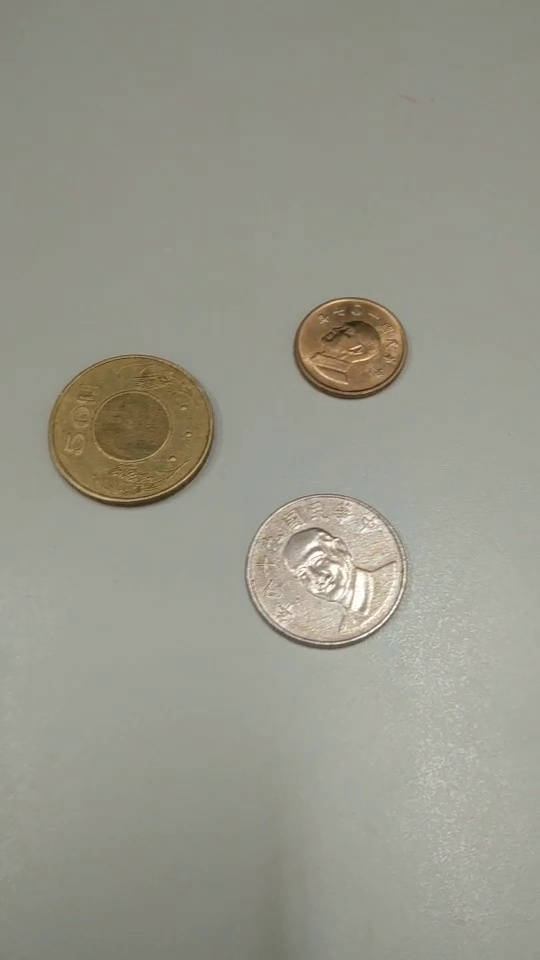NT$ 1: (290, 296, 410, 399)
NT$ 10: (247, 492, 408, 650)
NT$ 50: (48, 355, 219, 507)
